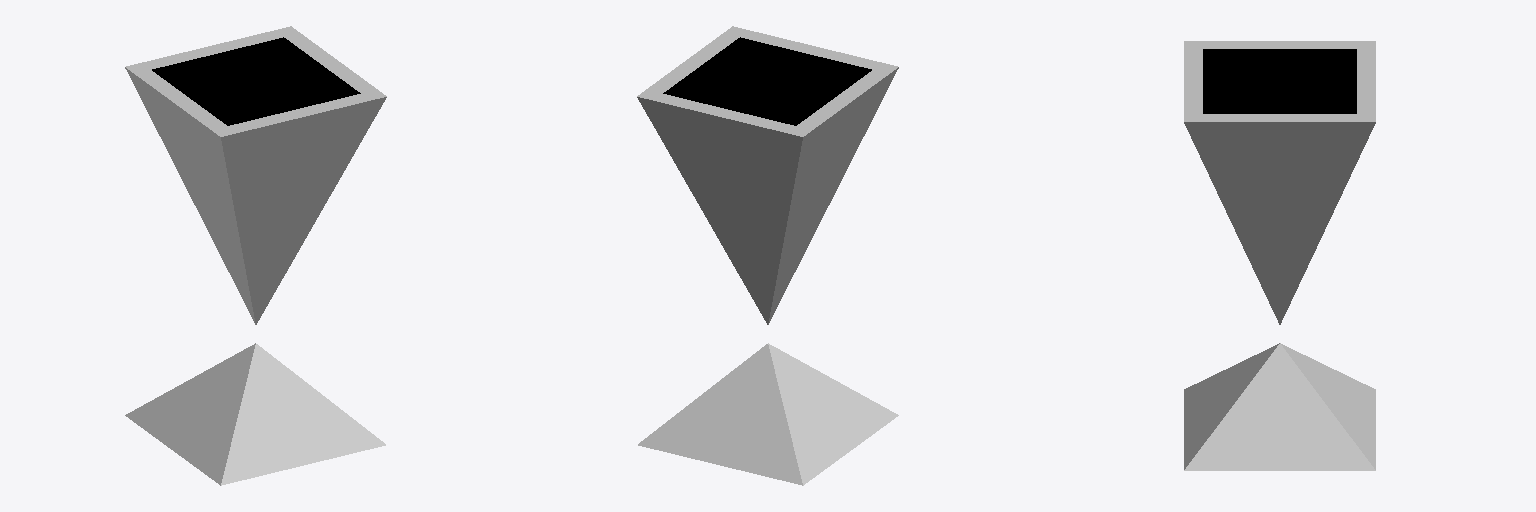
Rendered from flameTorch.obj.
3 renders of one model, left to right at view 1: azimuth 30°, elevation 25°; view 2: azimuth 150°, elevation 25°; view 3: azimuth 270°, elevation 25°, orthographic.
Parts seen in each view (by area): view 1: Cube; view 2: Cube; view 3: Cube.
Part boxes in pixels (x1,y1,x2,y2): Cube: (125, 26, 386, 485); Cube: (637, 26, 898, 485); Cube: (1184, 41, 1375, 470).
Bounding box in the file's own units: 1 × 2 × 1.